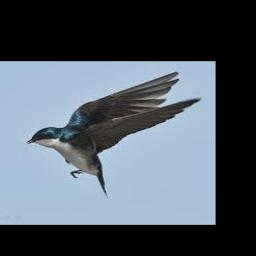Swallow: (28, 71, 201, 197)
